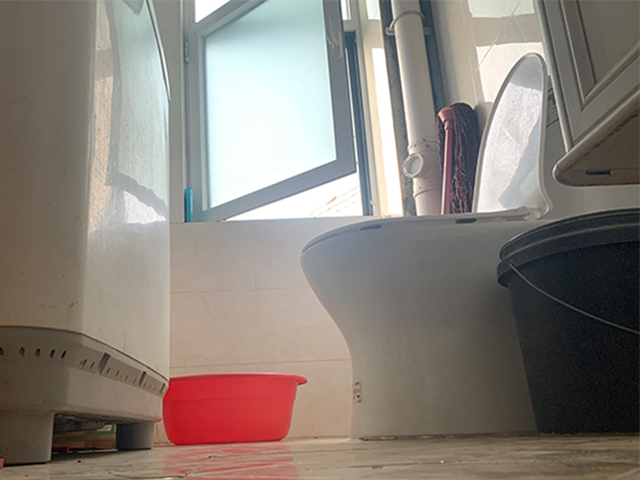closestool: (298, 51, 580, 439)
